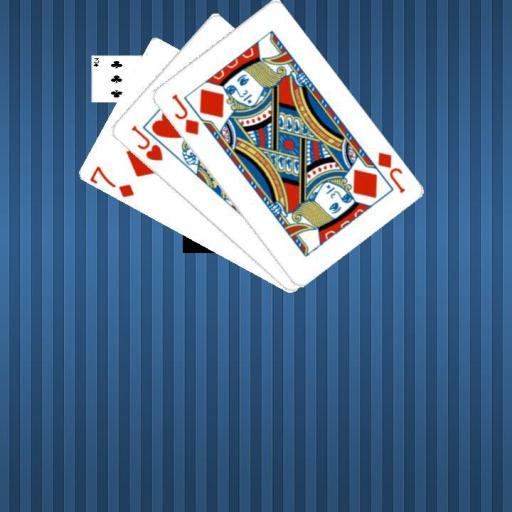7D: (87, 162, 135, 199)
JD: (373, 148, 407, 195), (168, 91, 200, 137)
JH: (128, 122, 165, 163)
